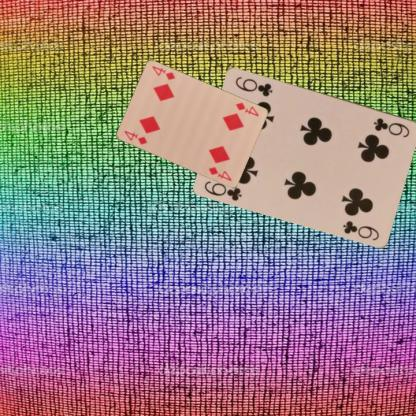4d: (121, 128, 148, 146), (233, 100, 260, 118)
6c: (202, 178, 244, 202), (371, 115, 411, 139)
